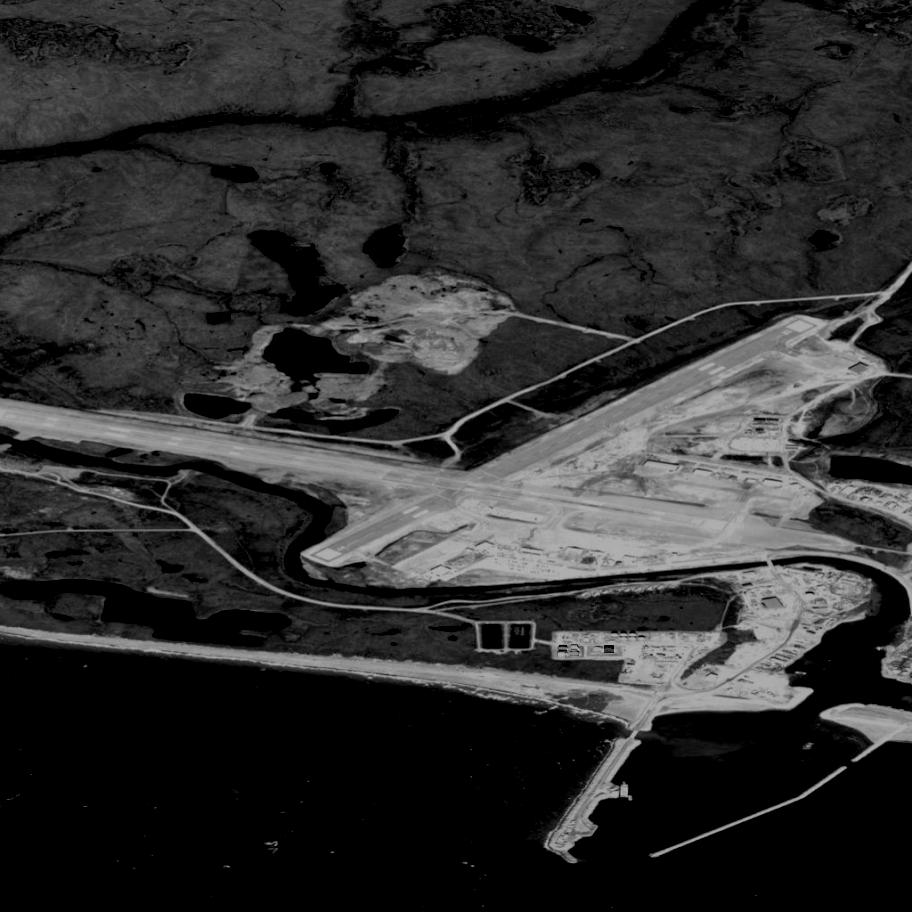storage-tank: (604, 645, 614, 654), (559, 652, 567, 659), (571, 644, 577, 651), (571, 651, 578, 656), (559, 646, 566, 651), (594, 648, 601, 652)
